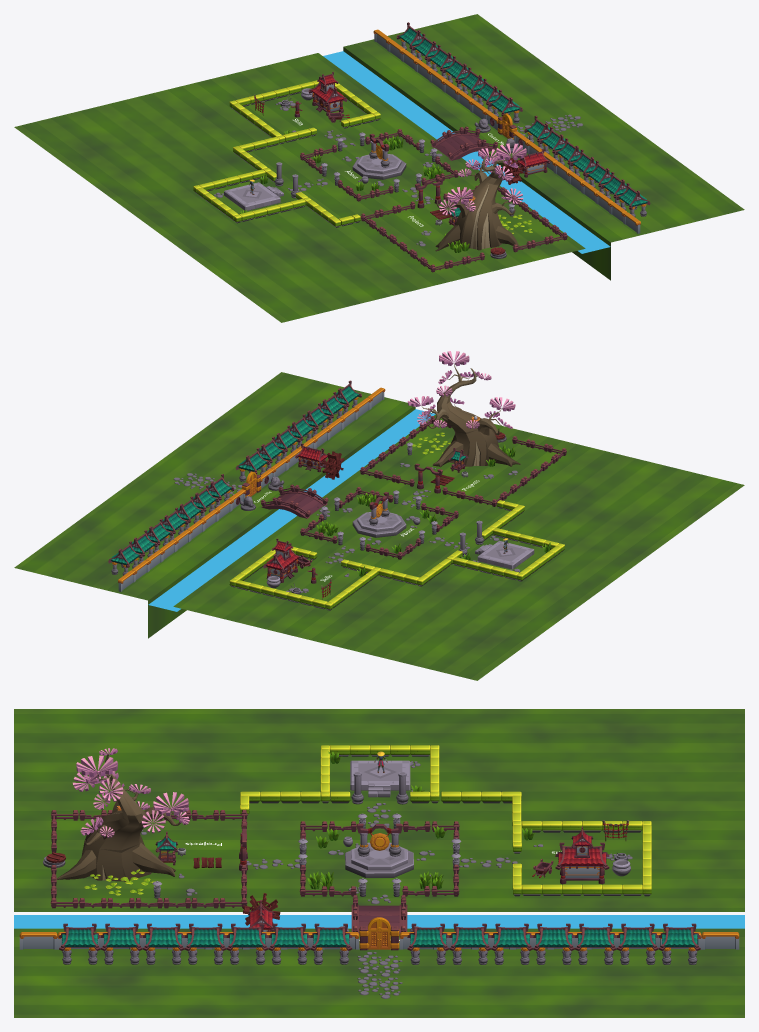
The picture shows the model from 3 angles, top to bottom: view 1: azimuth 30°, elevation 25°; view 2: azimuth 150°, elevation 25°; view 3: azimuth 270°, elevation 25°; orthographic projection. The views are drawn at different scales.
Parts seen in each view (by area): view 1: GrassPlane, All, Plane, gong; view 2: GrassPlane, All, Plane, gong; view 3: GrassPlane, All, Plane, gong.
Boxes of the visible parts, <box> form: GrassPlane: <box>14,14,744,322</box>; All: <box>193,22,650,272</box>; Plane: <box>323,51,610,253</box>; gong: <box>352,133,406,179</box>; GrassPlane: <box>14,372,744,680</box>; All: <box>108,351,566,610</box>; Plane: <box>148,409,435,611</box>; gong: <box>352,492,406,537</box>; GrassPlane: <box>14,709,744,1017</box>; All: <box>19,745,739,998</box>; Plane: <box>14,915,744,928</box>; gong: <box>345,823,413,877</box>.
Bounding box in the file's own units: 64 × 16.56 × 64.
7 materials, 5 textured.
